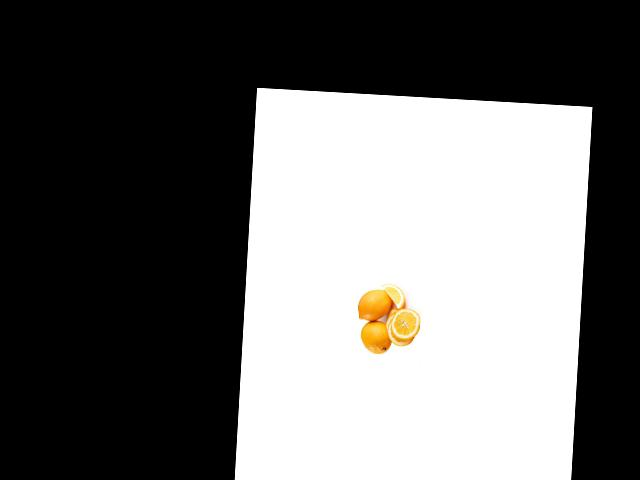lemon: (359, 316, 391, 353)
